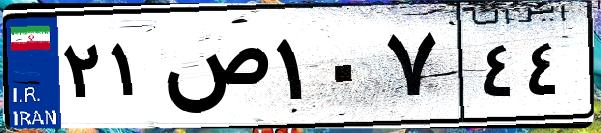0: (330, 28, 385, 110)
1: (270, 28, 330, 110), (110, 28, 158, 98)
2: (57, 26, 110, 100)
4: (475, 38, 525, 113), (525, 38, 570, 115)
7: (385, 28, 445, 110)
ص: (158, 20, 270, 120)
